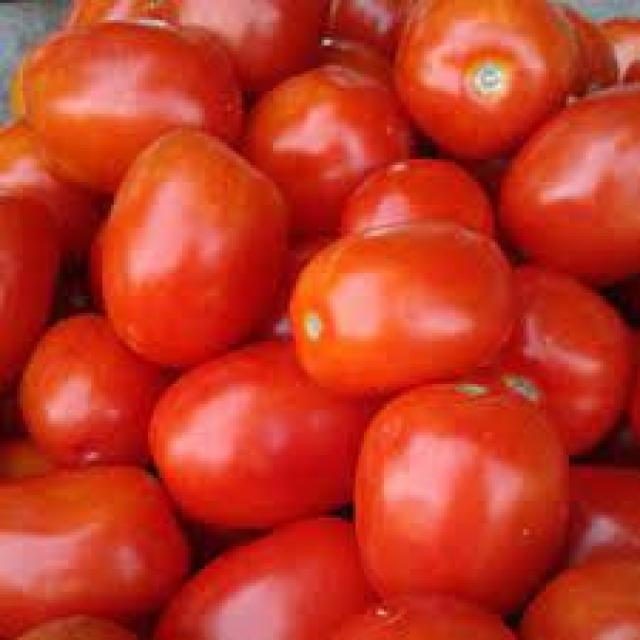Fresh_tomato: (102, 126, 285, 356), (363, 391, 544, 600), (296, 236, 516, 370), (401, 0, 575, 134)
